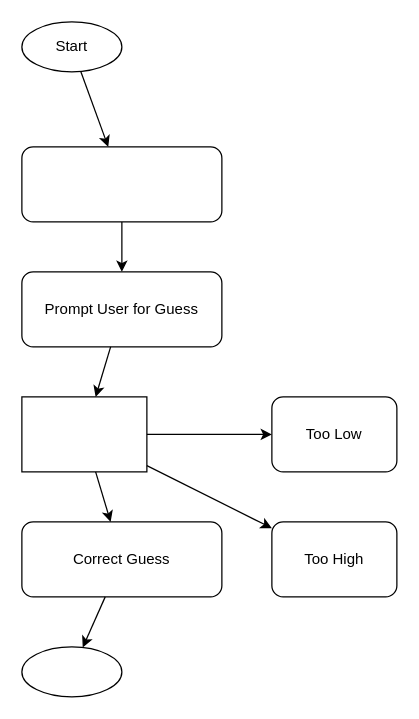
Some shapes in this 419 by 719 pixel diagram are drawn without their labels. Each missing label, with the box of its shape:
Check Guess: (21, 396, 147, 472)
End: (21, 646, 122, 697)
Initialize Variables: (21, 146, 222, 222)
